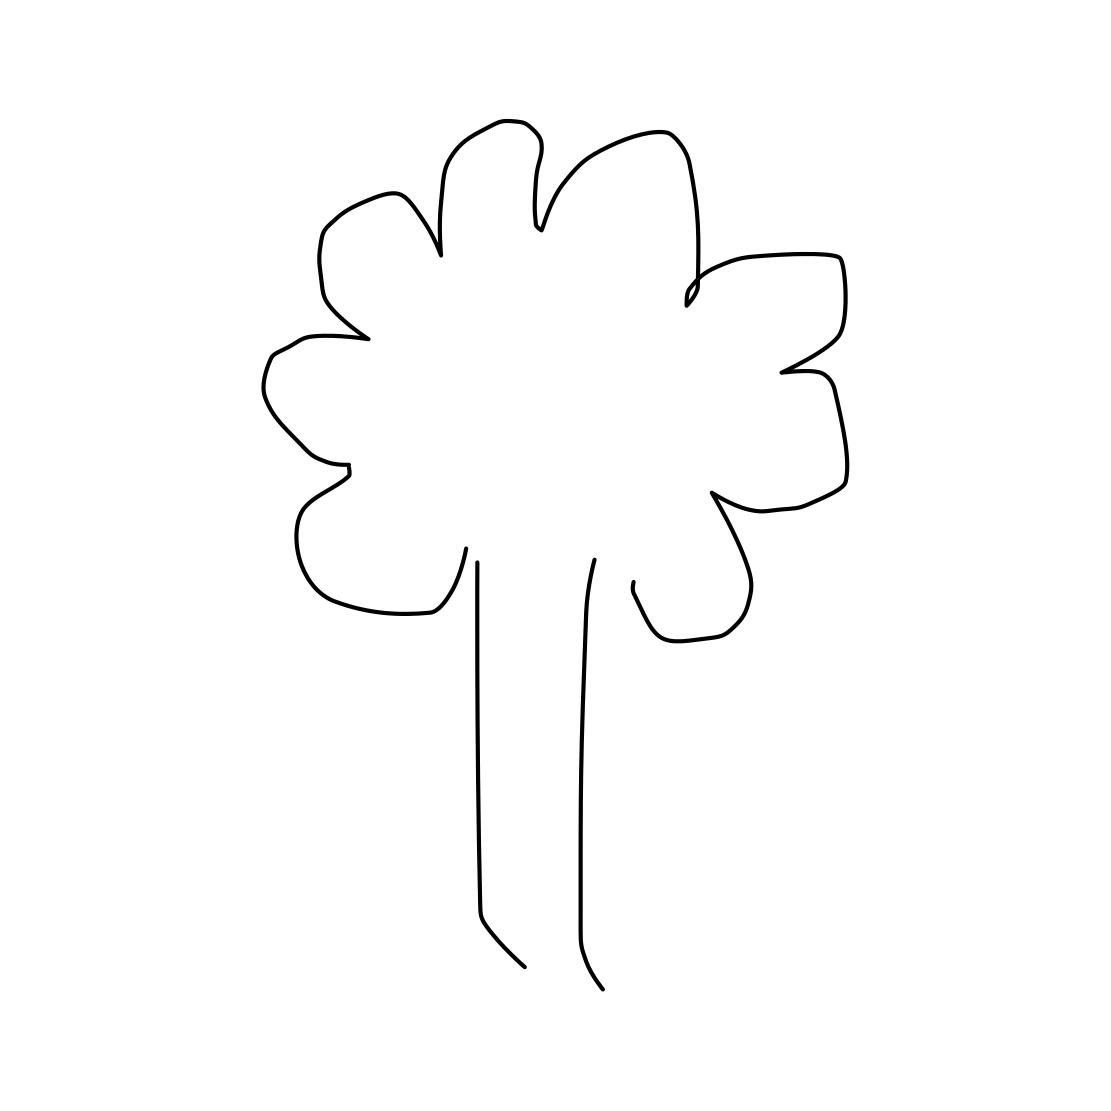Tree: (244, 57, 873, 1000)
